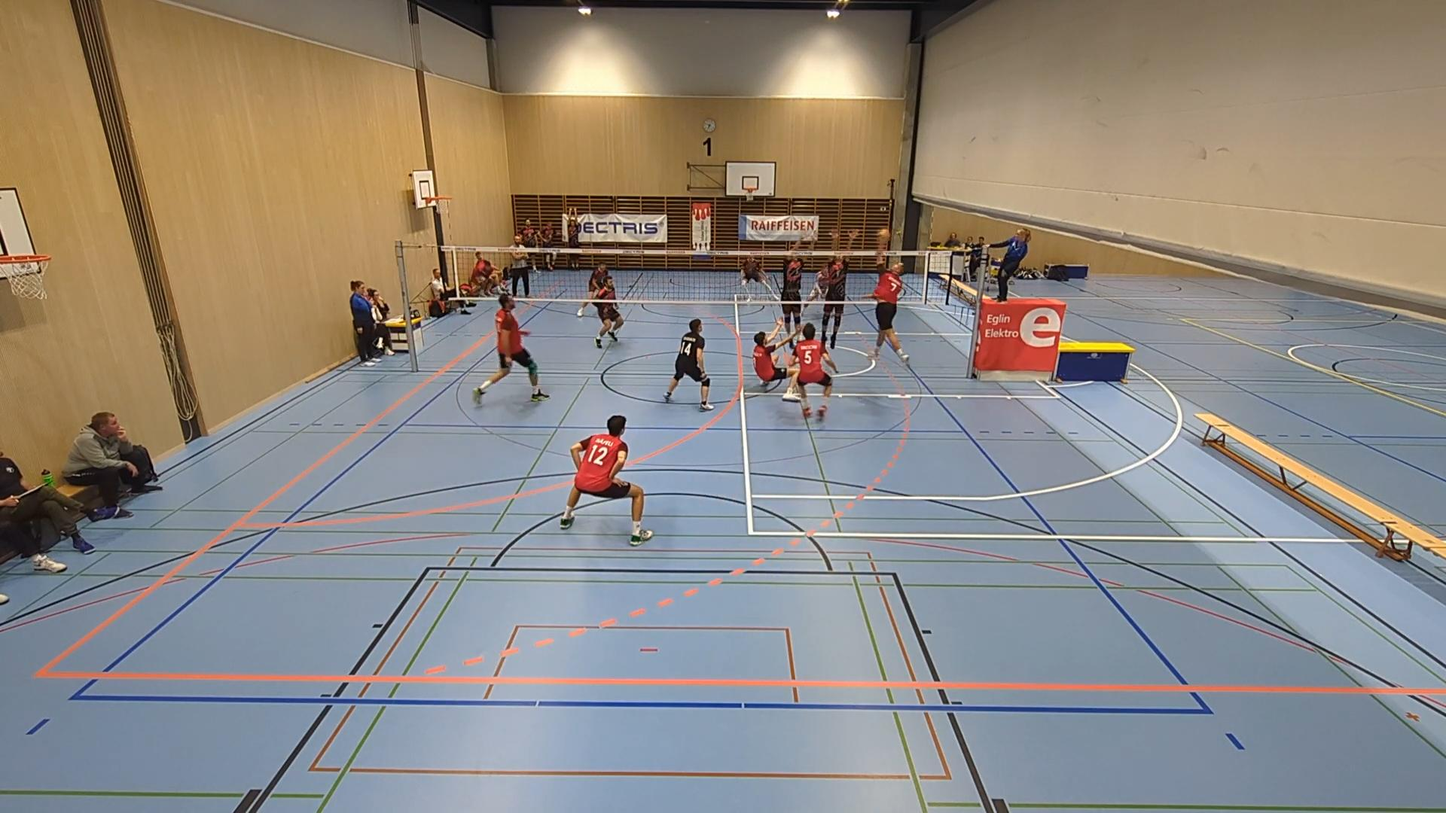attacco: (866, 242, 912, 366)
muro: (825, 223, 860, 354), (783, 230, 817, 348)
